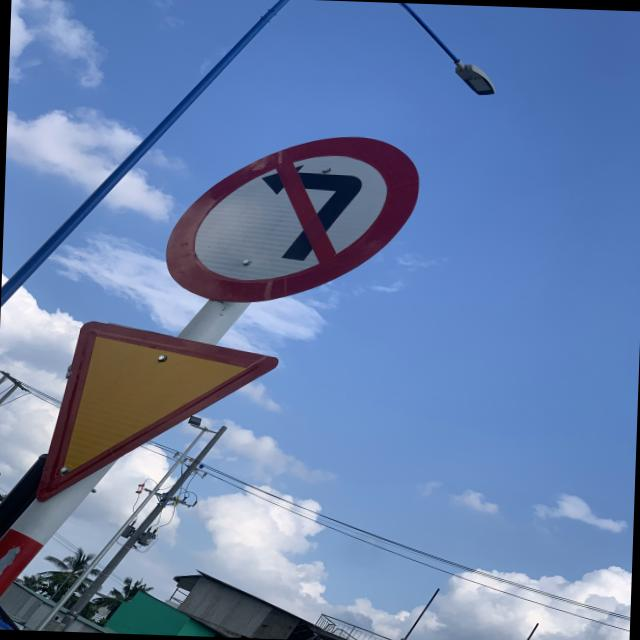Cam_Re_Trai: (164, 126, 427, 314)
Gioi_Han_Toc_Do_25: (32, 316, 274, 508)
